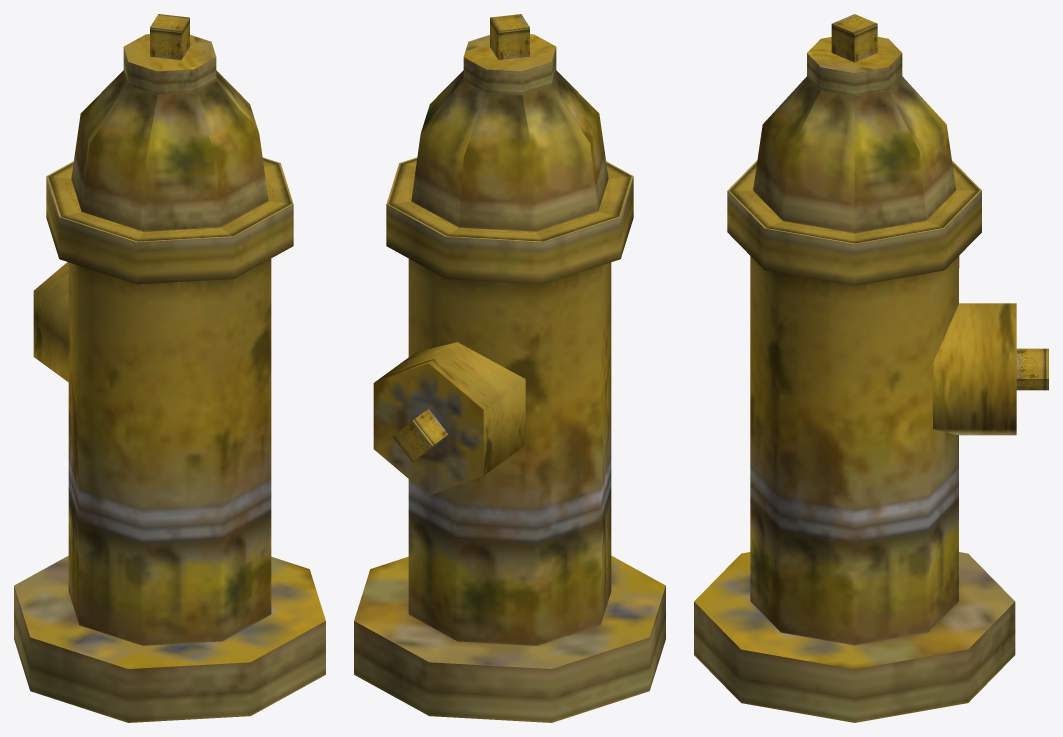
Rendered from hydrantyellow.fbx.
3 views of the same model, side by side, from view 1: azimuth 30°, elevation 25°; view 2: azimuth 150°, elevation 25°; view 3: azimuth 270°, elevation 25° (orthographic).
Visible parts, largest first — view 1: mesh_0; view 2: mesh_0; view 3: mesh_0.
Boxes of the visible parts, x1=… form: mesh_0: x1=14, y1=14, x2=325, y2=722; mesh_0: x1=354, y1=14, x2=665, y2=722; mesh_0: x1=694, y1=14, x2=1048, y2=722.
Bounding box in the file's own units: 33 × 71.59 × 36.45.
Materials: 1 (1 with a texture image).
